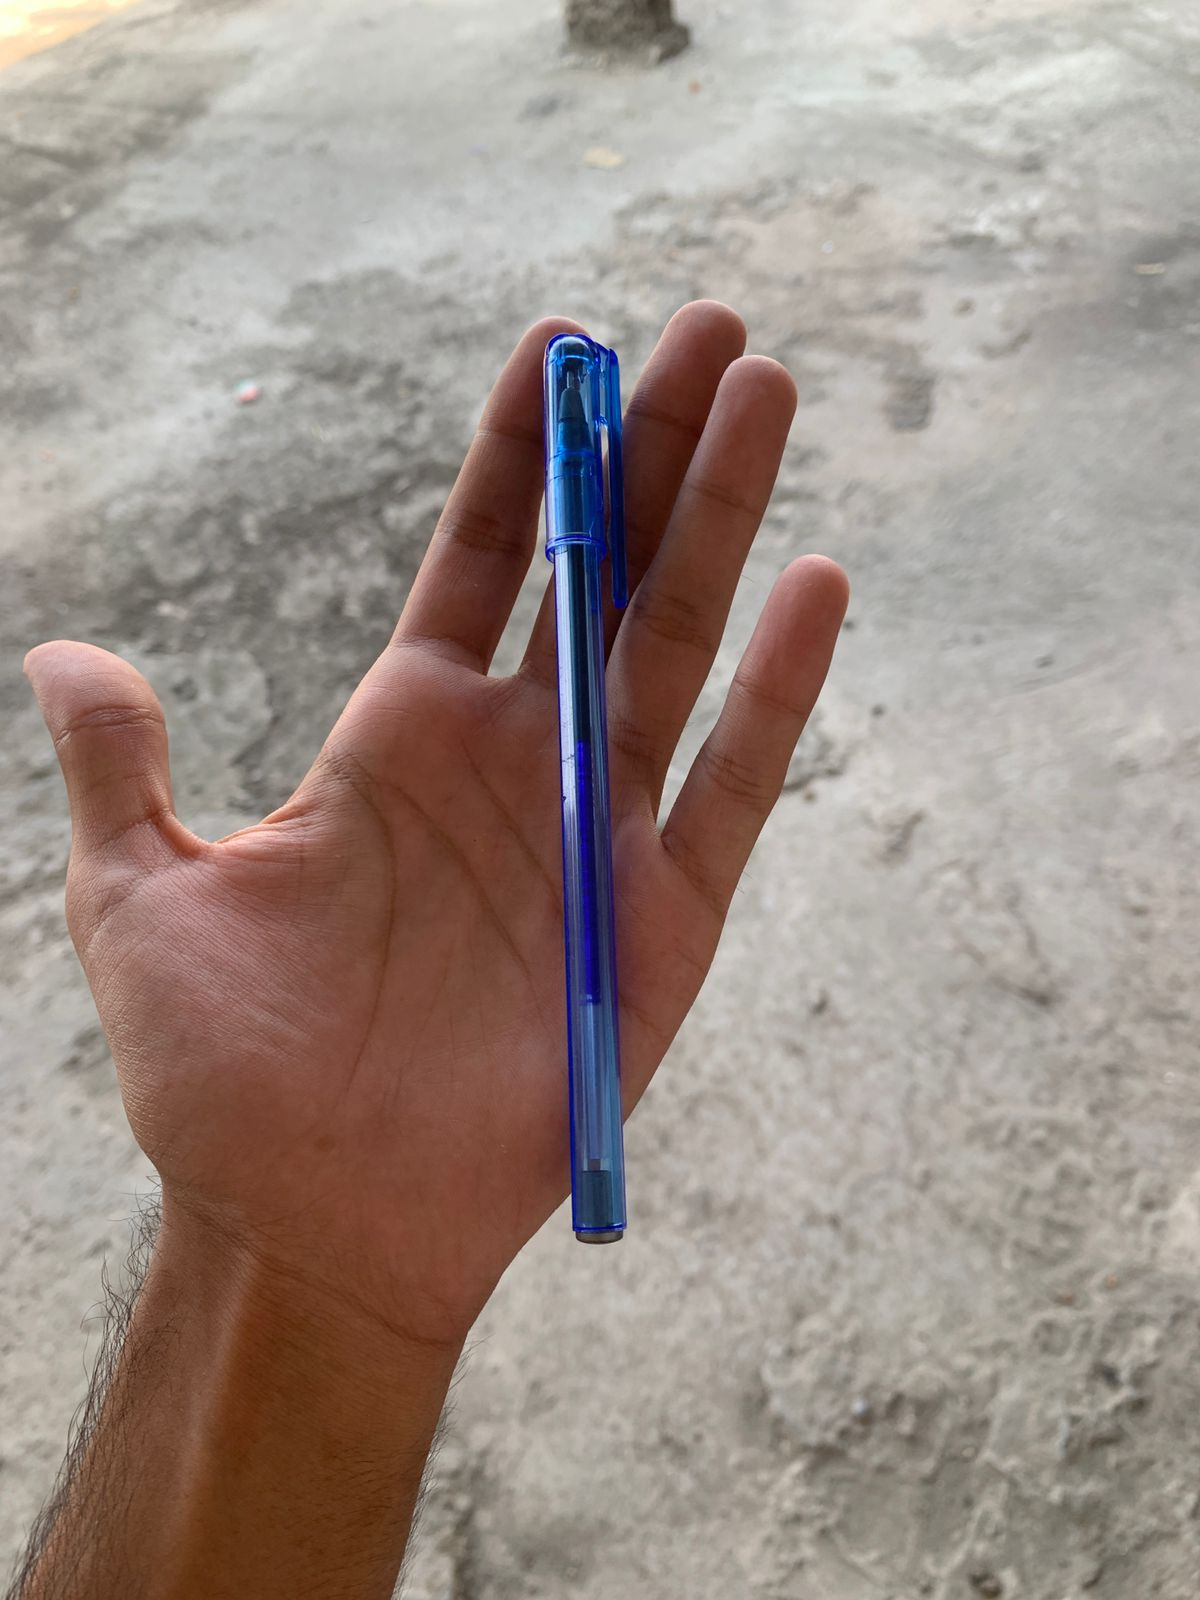pen: (460, 197, 697, 1332)
